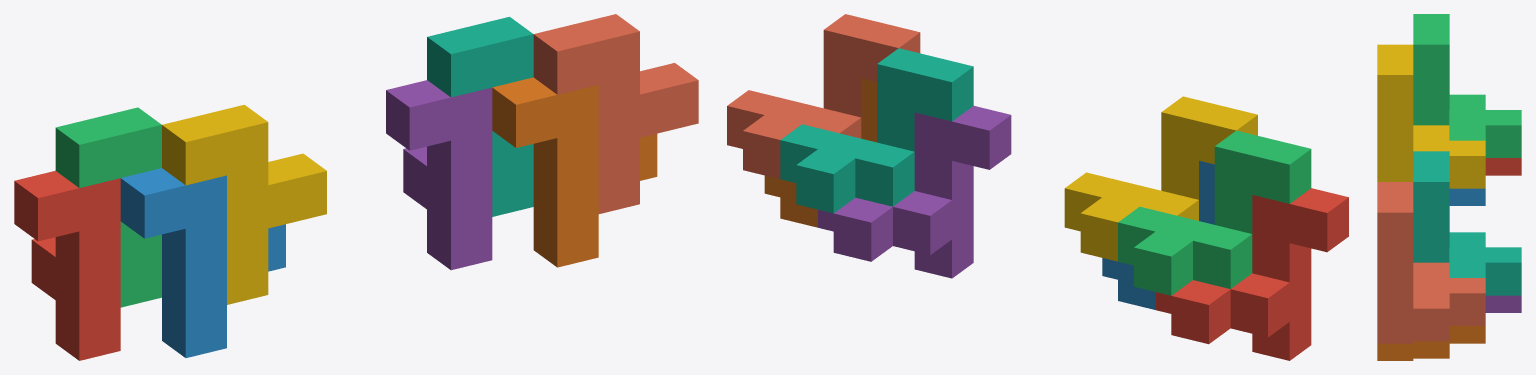
File: tiling.obj
3 renders of one model, left to right at view 1: azimuth 30°, elevation 25°; view 2: azimuth 150°, elevation 25°; view 3: azimuth 270°, elevation 25°, orthographic. The views are drawn at different scales.
Parts seen in each view (by area): view 1: copy_1_domain_8, copy_1_domain_4, copy_1_domain_5, copy_1_domain_1, copy_1_domain_6, copy_1_domain_2, copy_1_domain_3, copy_1_domain_7; view 2: copy_1_domain_5, copy_1_domain_1, copy_1_domain_3, copy_1_domain_7, copy_1_domain_8, copy_1_domain_4, copy_1_domain_6, copy_1_domain_2; view 3: copy_1_domain_8, copy_1_domain_4, copy_1_domain_7, copy_1_domain_3, copy_1_domain_6, copy_1_domain_1, copy_1_domain_2, copy_1_domain_5.
Part boxes in pixels (x1,y1,x2,y2): copy_1_domain_8: (533,14,698,213); copy_1_domain_4: (162,104,326,304); copy_1_domain_5: (386,80,492,270); copy_1_domain_1: (14,170,120,360); copy_1_domain_6: (492,77,657,267); copy_1_domain_2: (120,168,285,357); copy_1_domain_3: (55,107,161,307); copy_1_domain_7: (427,16,533,216); copy_1_domain_5: (818,106,1011,278); copy_1_domain_1: (1155,188,1348,360); copy_1_domain_3: (1118,130,1311,295); copy_1_domain_7: (780,48,973,213); copy_1_domain_8: (727,14,920,178); copy_1_domain_4: (1064,96,1257,261); copy_1_domain_6: (764,78,876,227); copy_1_domain_2: (1102,160,1214,309); copy_1_domain_8: (1377,182,1485,343); copy_1_domain_4: (1377,44,1485,188); copy_1_domain_7: (1413,151,1521,295); copy_1_domain_3: (1413,14,1521,157); copy_1_domain_6: (1377,326,1485,360); copy_1_domain_1: (1485,158,1521,175); copy_1_domain_2: (1449,188,1485,205); copy_1_domain_5: (1485,295,1521,312).
Bounding box in the file's own units: 16 × 5 × 4.
